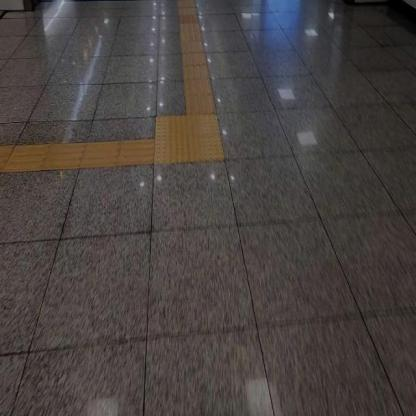podotacti: (137, 90, 238, 203), (0, 138, 151, 176), (174, 0, 217, 114)
